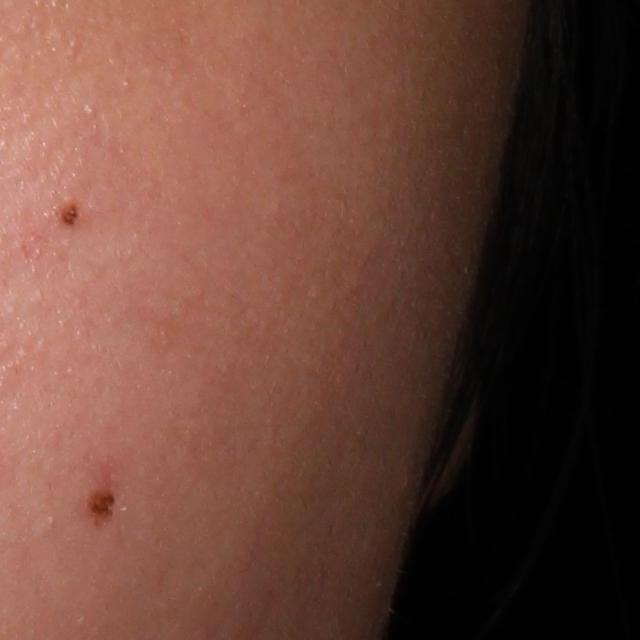nevus: (80, 463, 123, 538), (55, 195, 87, 230)
